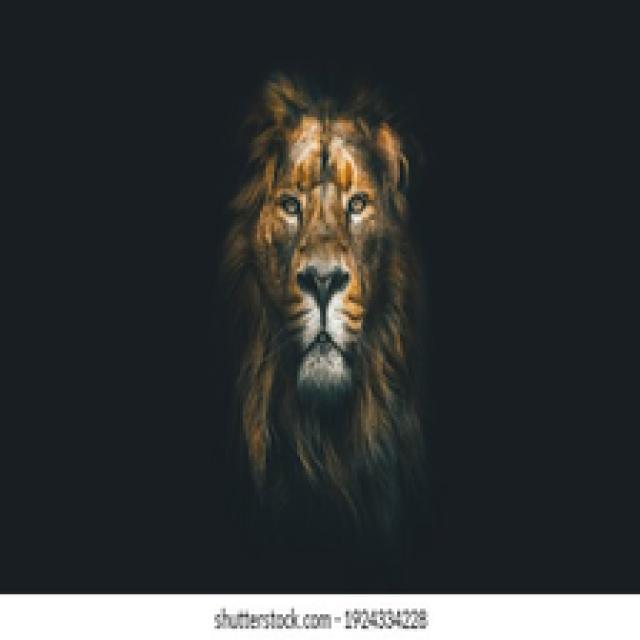lion: (166, 72, 458, 577)
